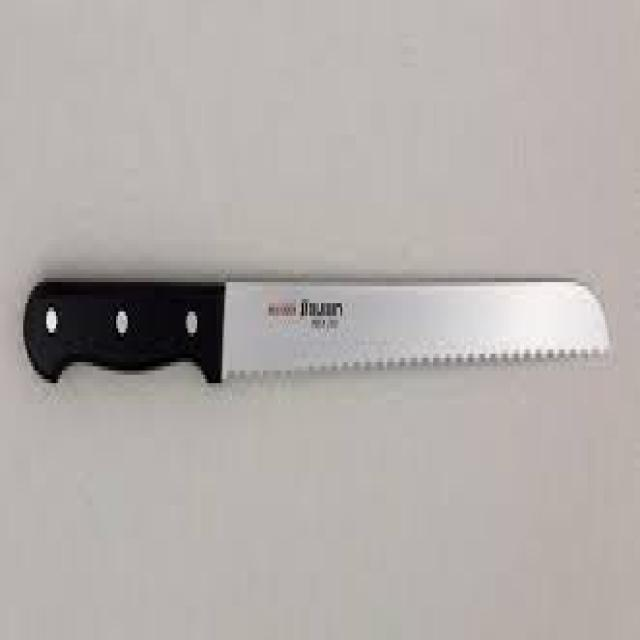knives: (13, 179, 628, 440)
